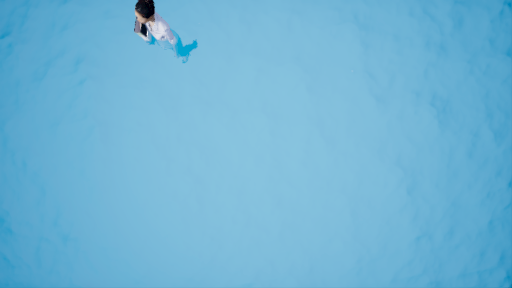person: (128, 3, 196, 68)
